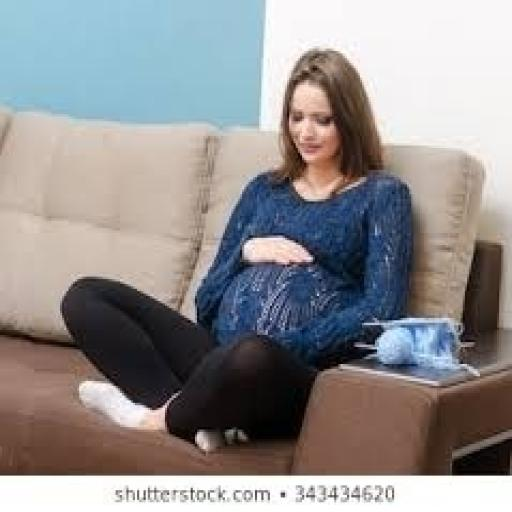sitting: (58, 44, 416, 454)
